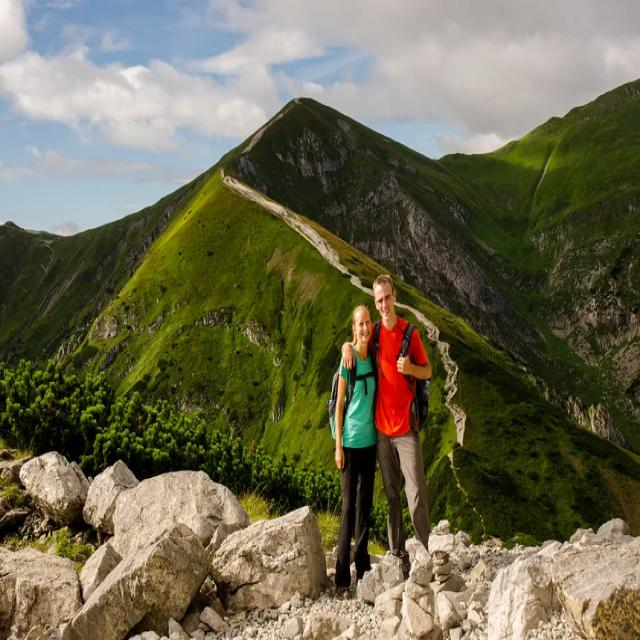Kopa Kondracka: (218, 27, 384, 166)
